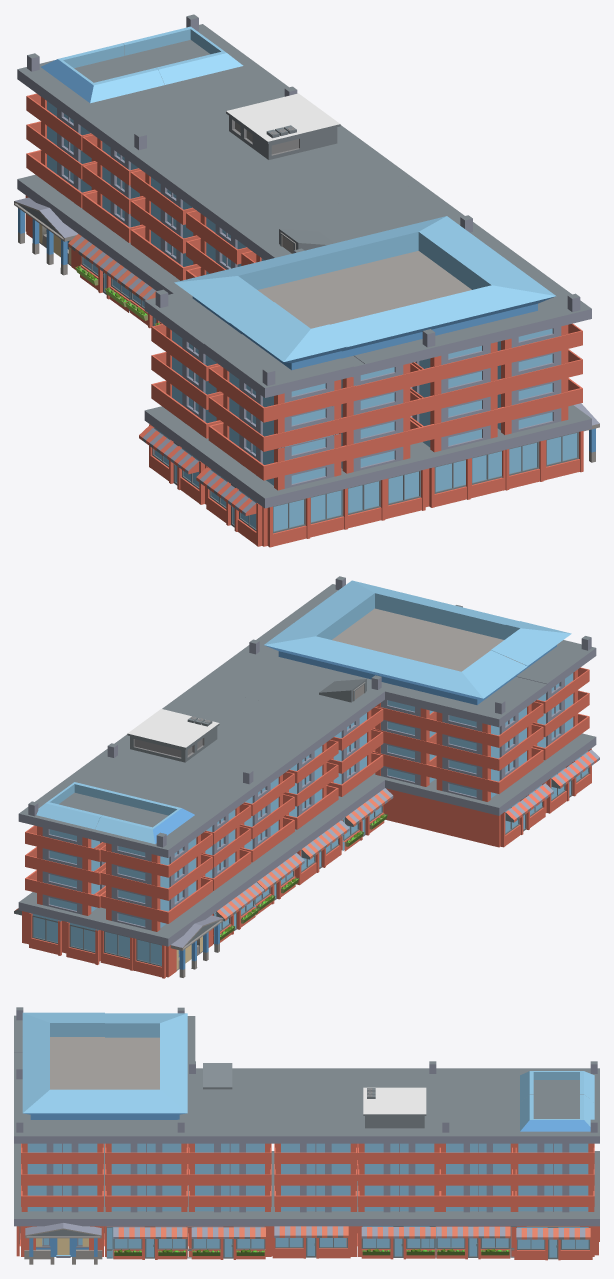
Rendered from putong_dajianzhu02.fbx.
3 renders of one model, top to bottom at view 1: azimuth 30°, elevation 25°; view 2: azimuth 150°, elevation 25°; view 3: azimuth 270°, elevation 25°, orthographic. The views are drawn at different scales.
Parts seen in each view (by area): view 1: putong_dajianzhu02087, putong_dajianzhu02089, putong_dajianzhu02069, putong_dajianzhu02003, putong_dajianzhu02075, putong_dajianzhu02081, putong_dajianzhu02093, putong_dajianzhu02027, putong_dajianzhu02033, putong_dajianzhu02039, putong_dajianzhu02068, putong_dajianzhu02009 (+39 smaller); view 2: putong_dajianzhu02002, putong_dajianzhu02092, putong_dajianzhu02093, putong_dajianzhu02003, putong_dajianzhu02009, putong_dajianzhu02087, putong_dajianzhu02027, putong_dajianzhu02051, putong_dajianzhu02099, putong_dajianzhu02033, putong_dajianzhu02039, putong_dajianzhu02008 (+42 smaller); view 3: putong_dajianzhu02069, putong_dajianzhu02063, putong_dajianzhu02027, putong_dajianzhu02068, putong_dajianzhu02008, putong_dajianzhu02044, putong_dajianzhu02056, putong_dajianzhu02009, putong_dajianzhu02062, putong_dajianzhu02045, putong_dajianzhu02057, putong_dajianzhu02026 (+34 smaller).
Part boxes in pixels (x1=…): putong_dajianzhu02087: x1=204, y1=302, x2=353, y2=404; putong_dajianzhu02089: x1=196, y1=452, x2=364, y2=547; putong_dajianzhu02069: x1=444, y1=256, x2=591, y2=349; putong_dajianzhu02003: x1=17, y1=43, x2=168, y2=124; putong_dajianzhu02075: x1=367, y1=280, x2=503, y2=366; putong_dajianzhu02081: x1=295, y1=299, x2=427, y2=387; putong_dajianzhu02093: x1=144, y1=267, x2=273, y2=353; putong_dajianzhu02027: x1=216, y1=93, x2=363, y2=164; putong_dajianzhu02033: x1=122, y1=123, x2=270, y2=195; putong_dajianzhu02039: x1=177, y1=163, x2=325, y2=236; putong_dajianzhu02068: x1=487, y1=403, x2=599, y2=490; putong_dajianzhu02009: x1=122, y1=14, x2=260, y2=88; putong_dajianzhu02002: x1=87, y1=901, x2=223, y2=978; putong_dajianzhu02092: x1=418, y1=767, x2=553, y2=847; putong_dajianzhu02093: x1=429, y1=650, x2=547, y2=733; putong_dajianzhu02003: x1=93, y1=795, x2=219, y2=862; putong_dajianzhu02009: x1=18, y1=779, x2=139, y2=847; putong_dajianzhu02087: x1=491, y1=621, x2=596, y2=691; putong_dajianzhu02027: x1=104, y1=709, x2=222, y2=769; putong_dajianzhu02051: x1=267, y1=670, x2=384, y2=730; putong_dajianzhu02099: x1=368, y1=647, x2=474, y2=718; putong_dajianzhu02033: x1=177, y1=737, x2=297, y2=795; putong_dajianzhu02039: x1=222, y1=704, x2=341, y2=763; putong_dajianzhu02008: x1=14, y1=892, x2=101, y2=964; putong_dajianzhu02069: x1=14, y1=1085, x2=104, y2=1147; putong_dajianzhu02063: x1=105, y1=1085, x2=187, y2=1147; putong_dajianzhu02027: x1=357, y1=1087, x2=441, y2=1147; putong_dajianzhu02068: x1=14, y1=1182, x2=103, y2=1264; putong_dajianzhu02008: x1=512, y1=1187, x2=599, y2=1260; putong_dajianzhu02044: x1=271, y1=1182, x2=358, y2=1258; putong_dajianzhu02056: x1=181, y1=1185, x2=272, y2=1259; putong_dajianzhu02009: x1=512, y1=1095, x2=599, y2=1147; putong_dajianzhu02062: x1=98, y1=1182, x2=193, y2=1259; putong_dajianzhu02045: x1=272, y1=1102, x2=357, y2=1147; putong_dajianzhu02057: x1=188, y1=1102, x2=271, y2=1147; putong_dajianzhu02026: x1=357, y1=1207, x2=441, y2=1259.
Size of the model in its own units: 20.05 by 10.25 by 38.13.
